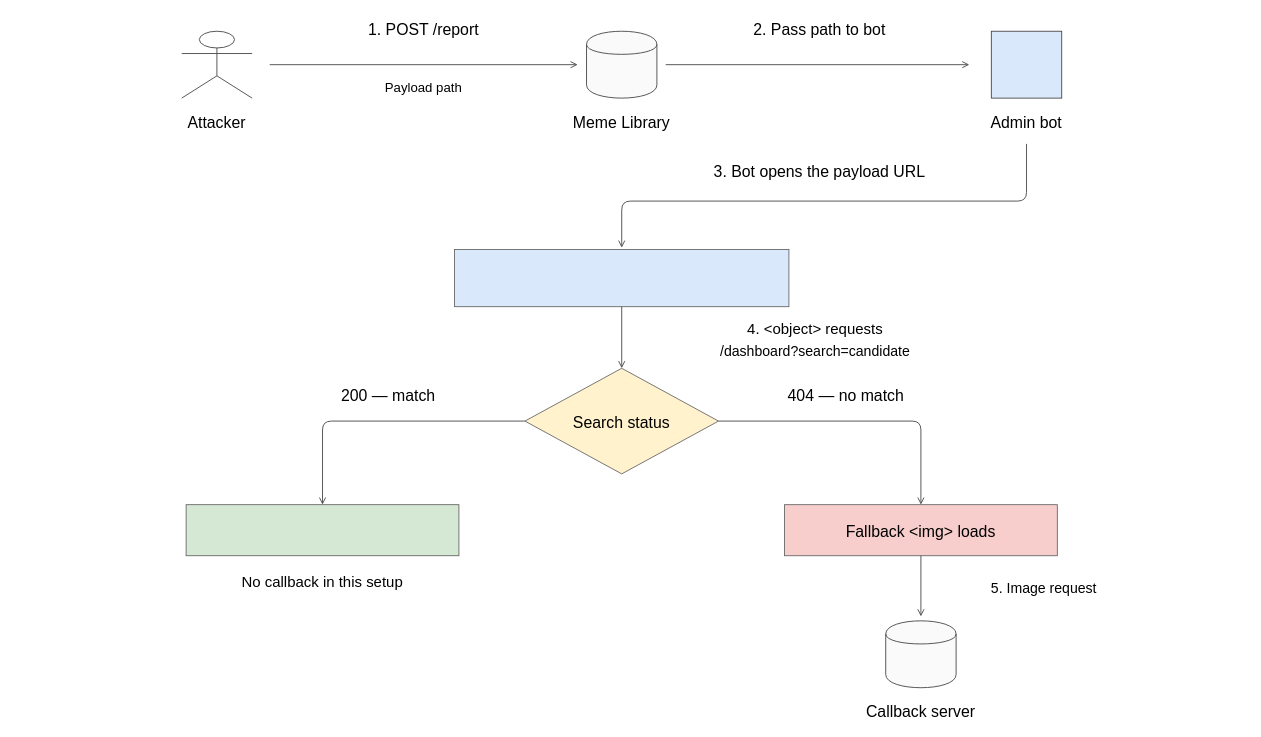
Image size: 1261x737. Some labels were removed from this diagram. The centre of each missing label's shape, as x and y in pixels:
"HTML injection in the bot’s browser" belongs at pixel 621 278.
"Object loads successfully" belongs at pixel 322 530.
